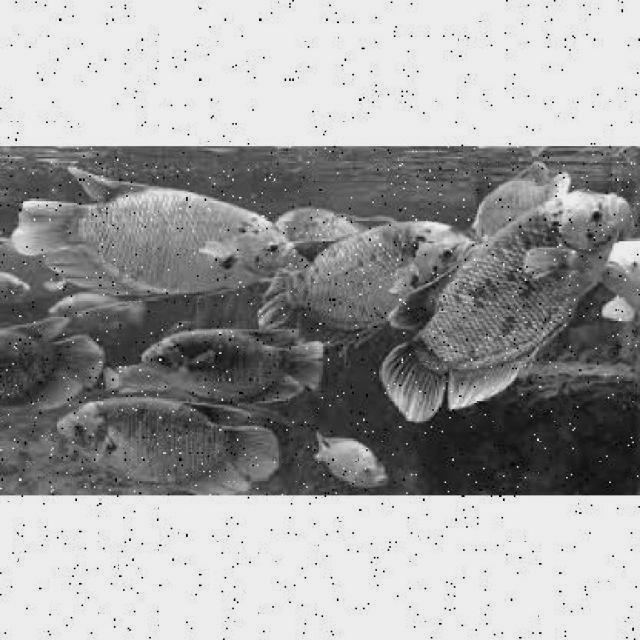gurame: (385, 186, 630, 417), (12, 168, 296, 300), (258, 219, 471, 344), (54, 393, 284, 493), (144, 322, 323, 408), (2, 308, 102, 412)
